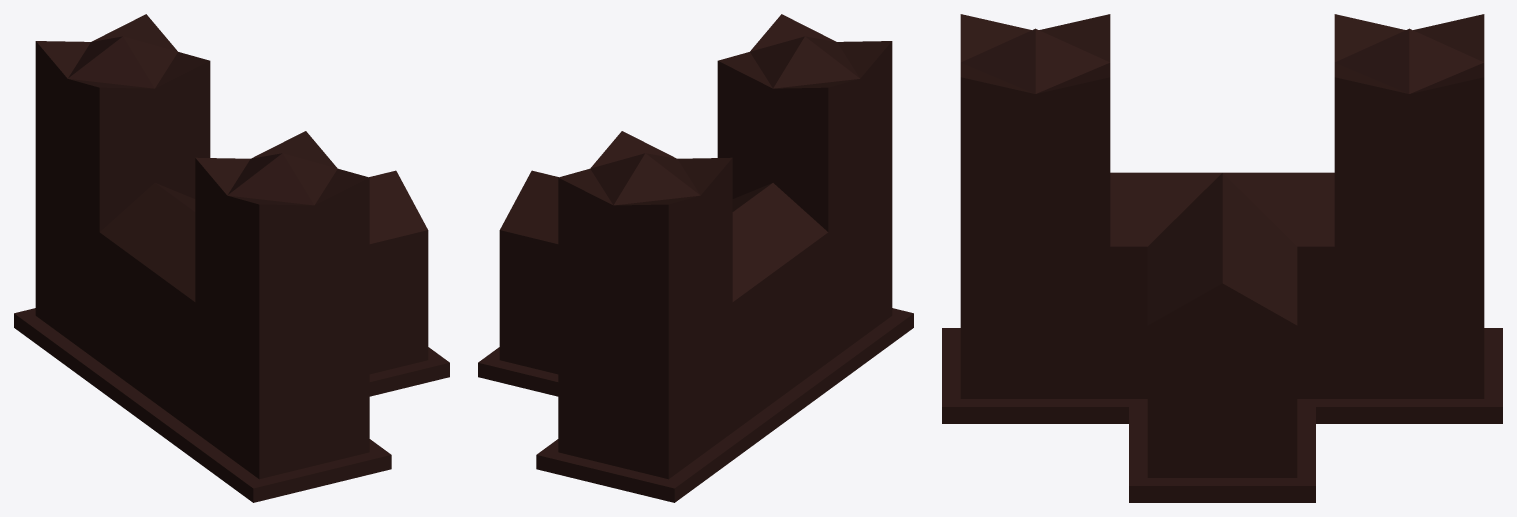
Rendered from Manor.glb.
The picture shows the model from 3 angles, left to right: view 1: azimuth 30°, elevation 25°; view 2: azimuth 150°, elevation 25°; view 3: azimuth 270°, elevation 25°; orthographic projection. The views are drawn at different scales.
Visible parts, largest first — view 1: 4Manor; view 2: 4Manor; view 3: 4Manor.
Boxes of the visible parts, x1,y1,x2,y2 form: 4Manor: [14, 14, 449, 502]; 4Manor: [478, 14, 913, 502]; 4Manor: [942, 14, 1502, 502].
Bounding box in the file's own units: 2 × 2.1 × 3.
